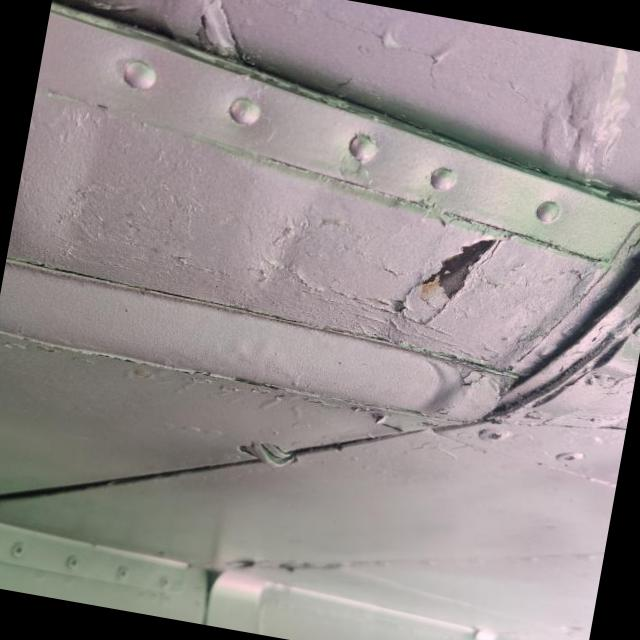Crack: (424, 240, 496, 299)
